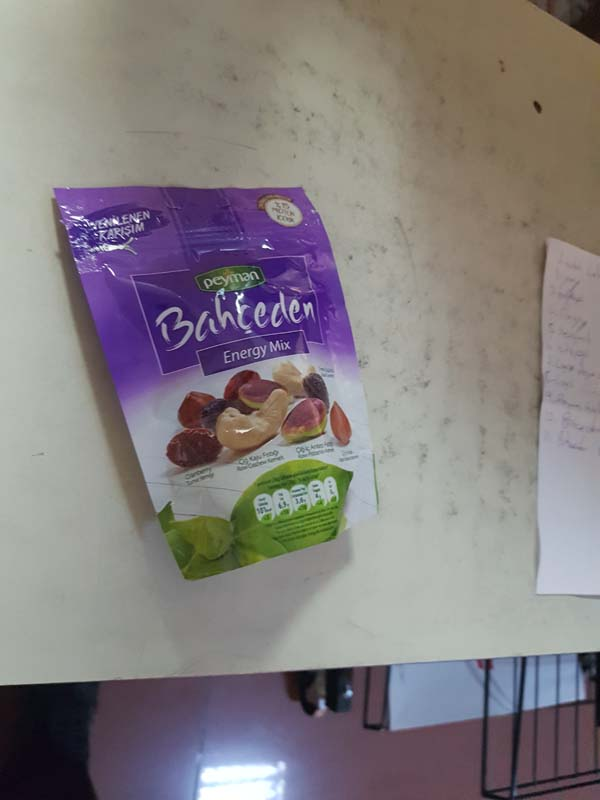bahcedenenergymix: (50, 183, 388, 590)
